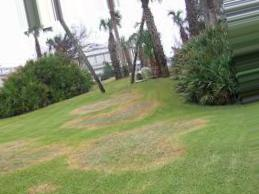patch: (90, 140, 130, 171), (129, 141, 167, 170), (8, 154, 33, 170), (139, 131, 159, 144), (31, 182, 52, 194), (115, 114, 137, 125), (72, 119, 85, 133), (74, 149, 88, 161), (90, 119, 104, 127)
